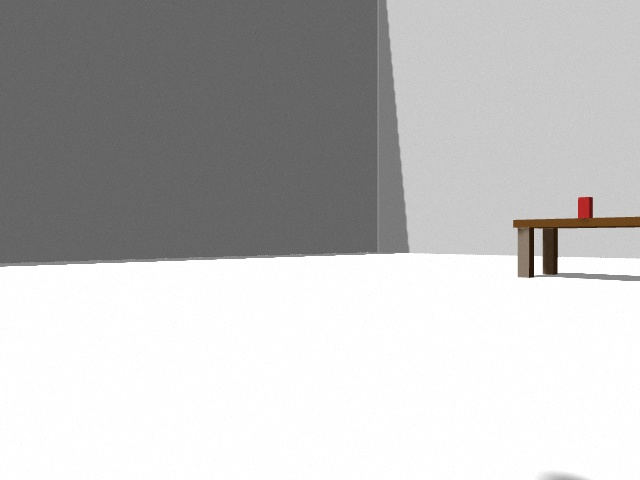red_cube: (578, 197, 590, 219)
